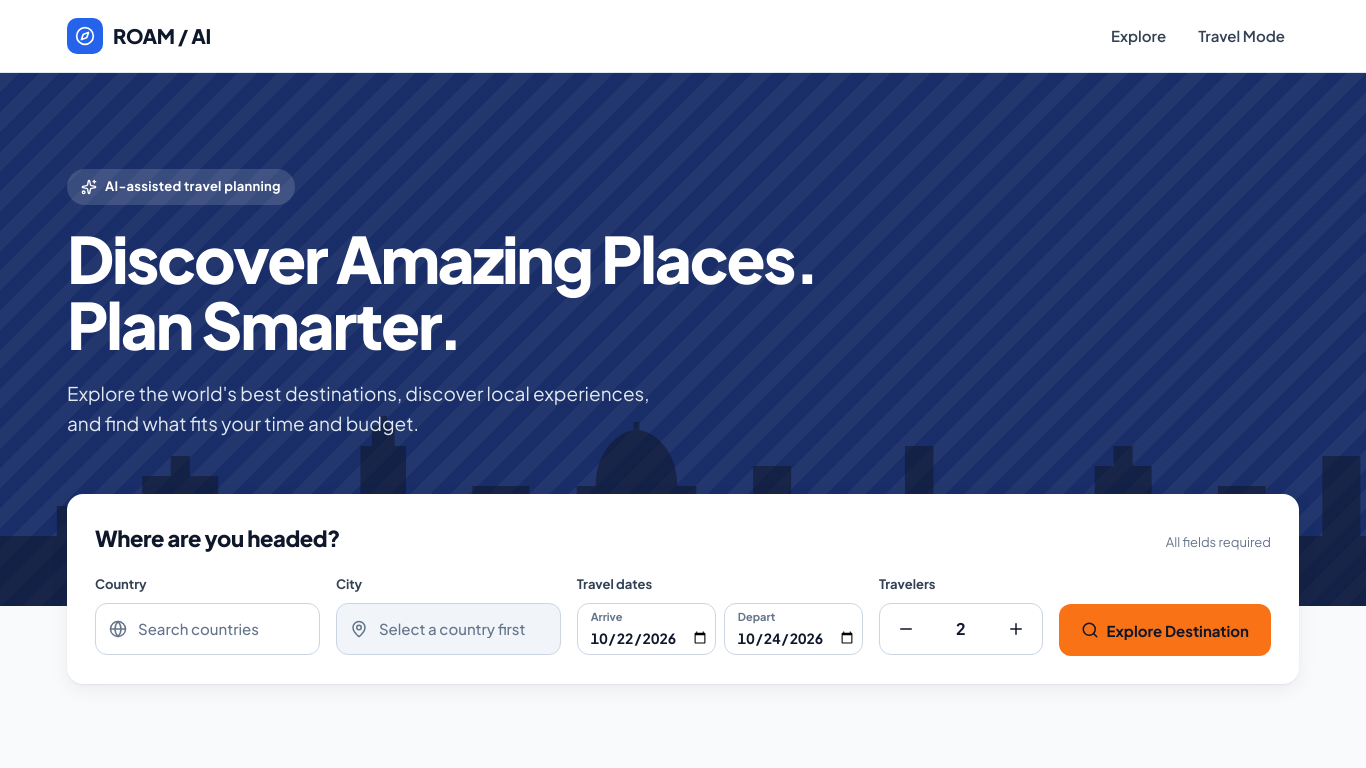
Test case: HomePage › shows field errors when submitted empty and does not navigate
Click the button "Explore Destination" at (1165, 630), box x1=1058 y1=604 x2=1271 y2=656
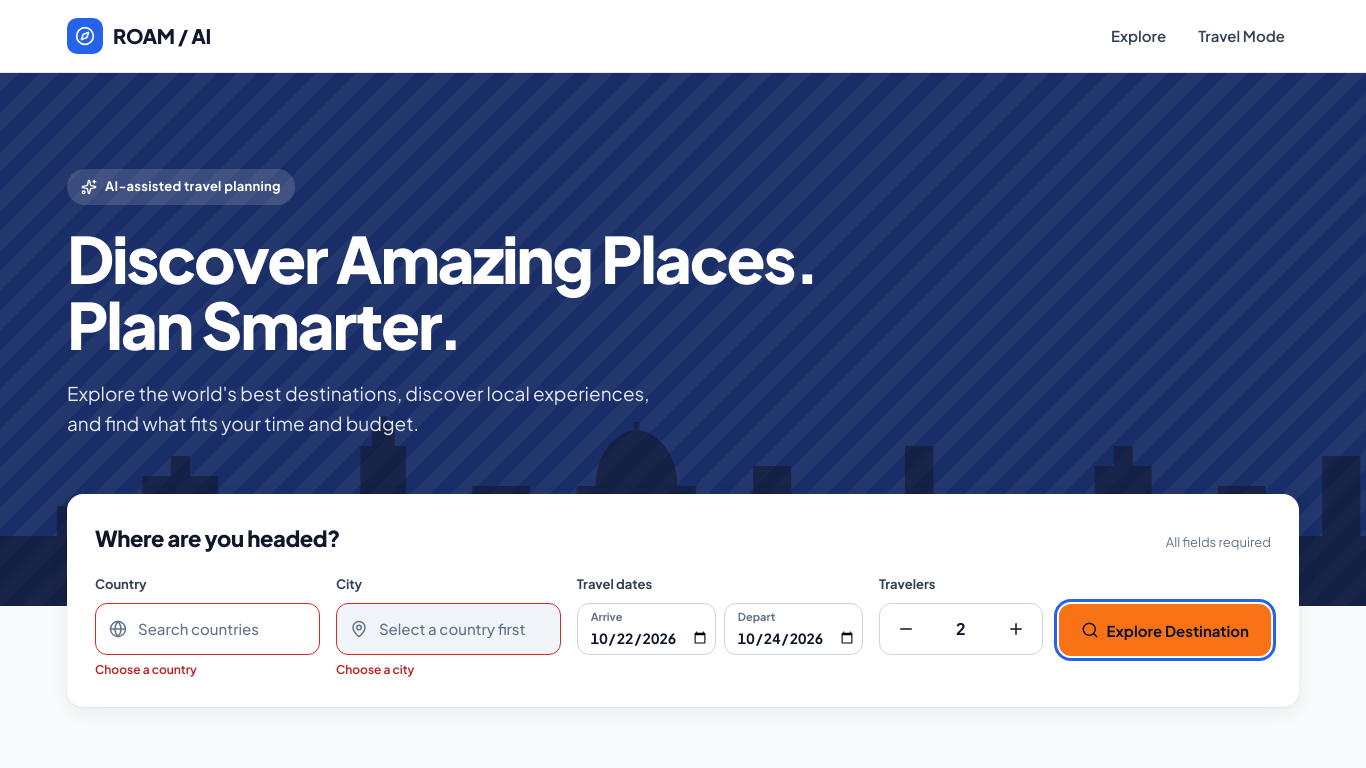
Now the text "Choose a country" is shown, box x1=95 y1=662 x2=197 y2=677
Now the text "Choose a city" is shown, box x1=336 y1=662 x2=414 y2=677
